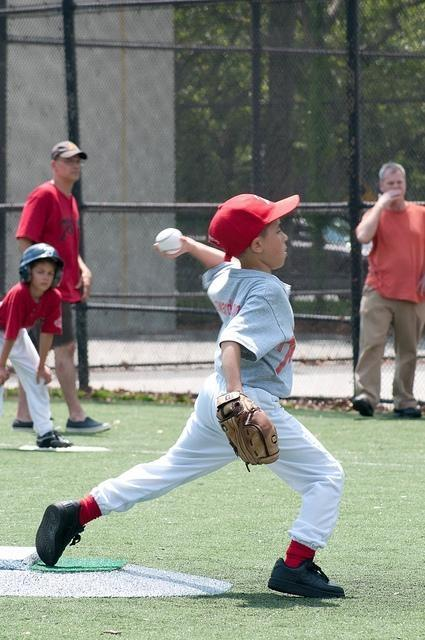car: (272, 212, 352, 305)
